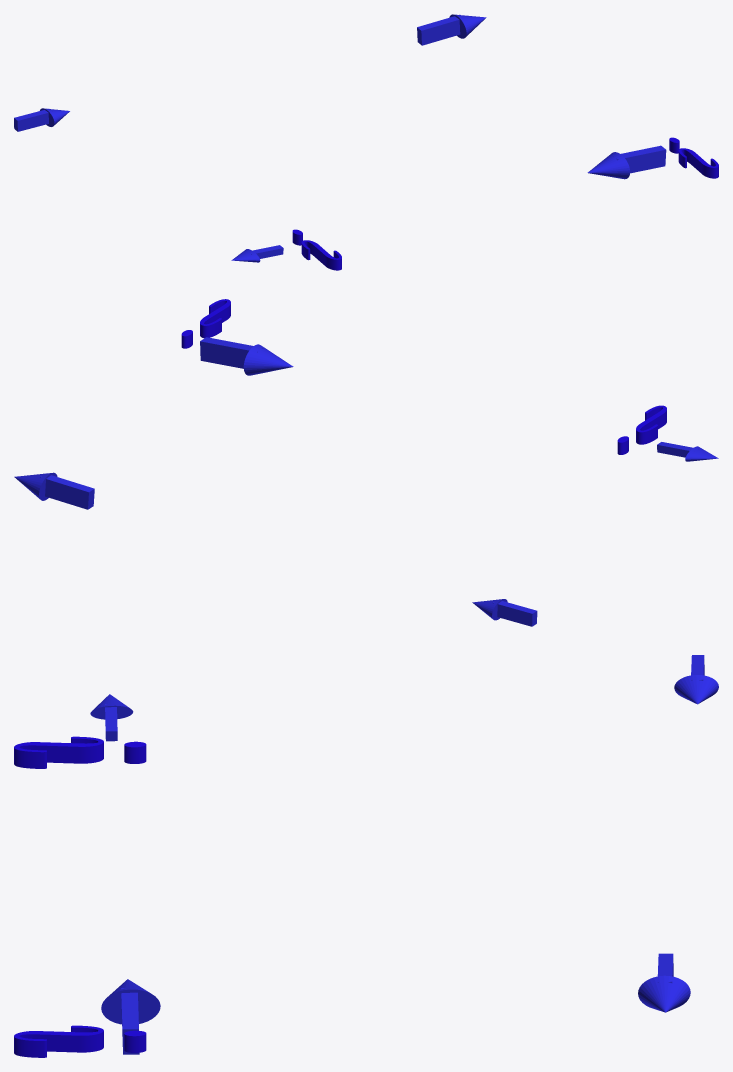
File: flechasDeCorriente.dae
3 views of the same model, one above another, from view 1: azimuth 30°, elevation 25°; view 2: azimuth 150°, elevation 25°; view 3: azimuth 270°, elevation 25° (orthographic). The views are drawn at different scales.
Visible parts, largest first — view 1: Cono.014, Cono.015, Texto.012, Texto.001, Cono.020, Cono.021; view 2: Cono.014, Cono.015, Cono.020, Texto.012, Texto.001, Cono.021; view 3: Texto.001, Texto.012, Cono.014, Cono.015, Cono.020, Cono.021.
Boxes of the visible parts, left/top/right/bottom form: Cono.014: left=587, top=145, right=666, bottom=179; Cono.015: left=417, top=14, right=486, bottom=45; Texto.012: left=292, top=229, right=341, bottom=270; Texto.001: left=669, top=137, right=718, bottom=178; Cono.020: left=14, top=108, right=69, bottom=131; Cono.021: left=231, top=245, right=283, bottom=262; Cono.014: left=200, top=337, right=293, bottom=375; Cono.015: left=14, top=472, right=94, bottom=509; Cono.020: left=472, top=599, right=537, bottom=626; Texto.012: left=617, top=405, right=666, bottom=454; Texto.001: left=181, top=299, right=230, bottom=348; Cono.021: left=657, top=442, right=718, bottom=461; Texto.001: left=14, top=1025, right=146, bottom=1057; Texto.012: left=14, top=736, right=146, bottom=768; Cono.014: left=101, top=979, right=160, bottom=1054; Cono.015: left=638, top=953, right=690, bottom=1012; Cono.020: left=674, top=655, right=718, bottom=704; Cono.021: left=90, top=694, right=133, bottom=741.
Size of the model in its own units: 1.66 by 1.32 by 0.1137.
